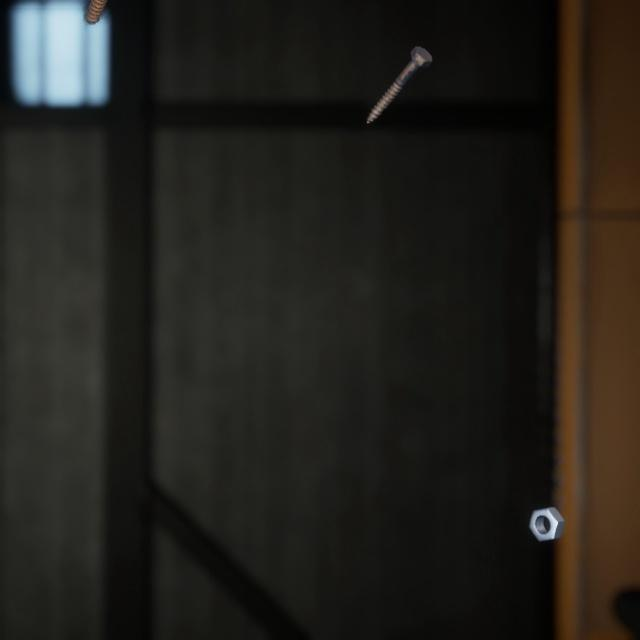bolt: (362, 32, 436, 117), (80, 0, 109, 22)
nut: (524, 480, 569, 524)
